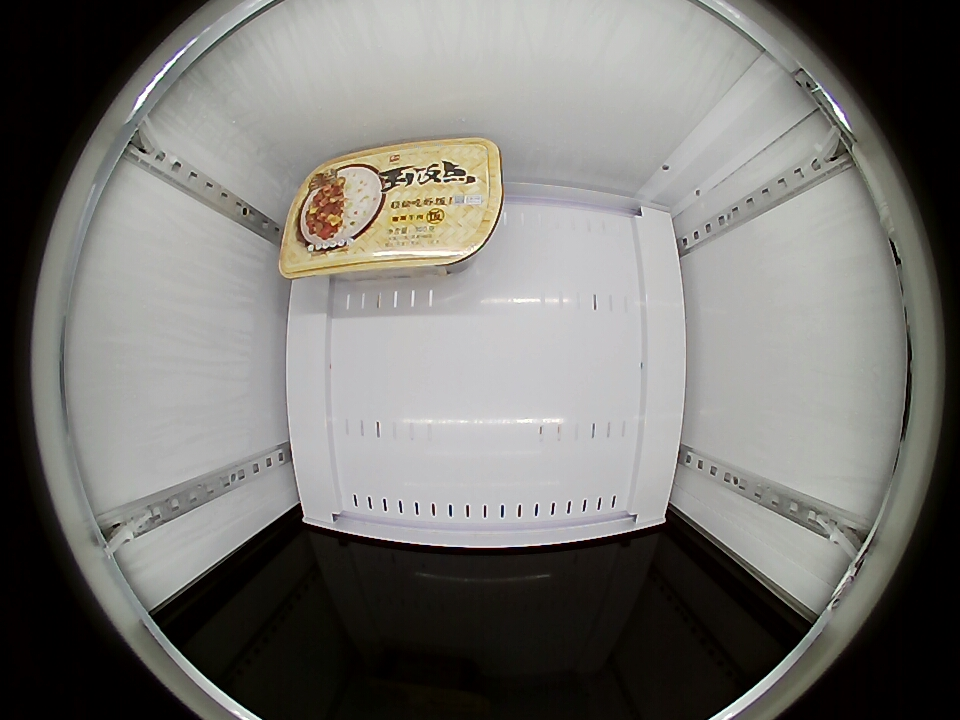daofandian2: (278, 138, 505, 279)
